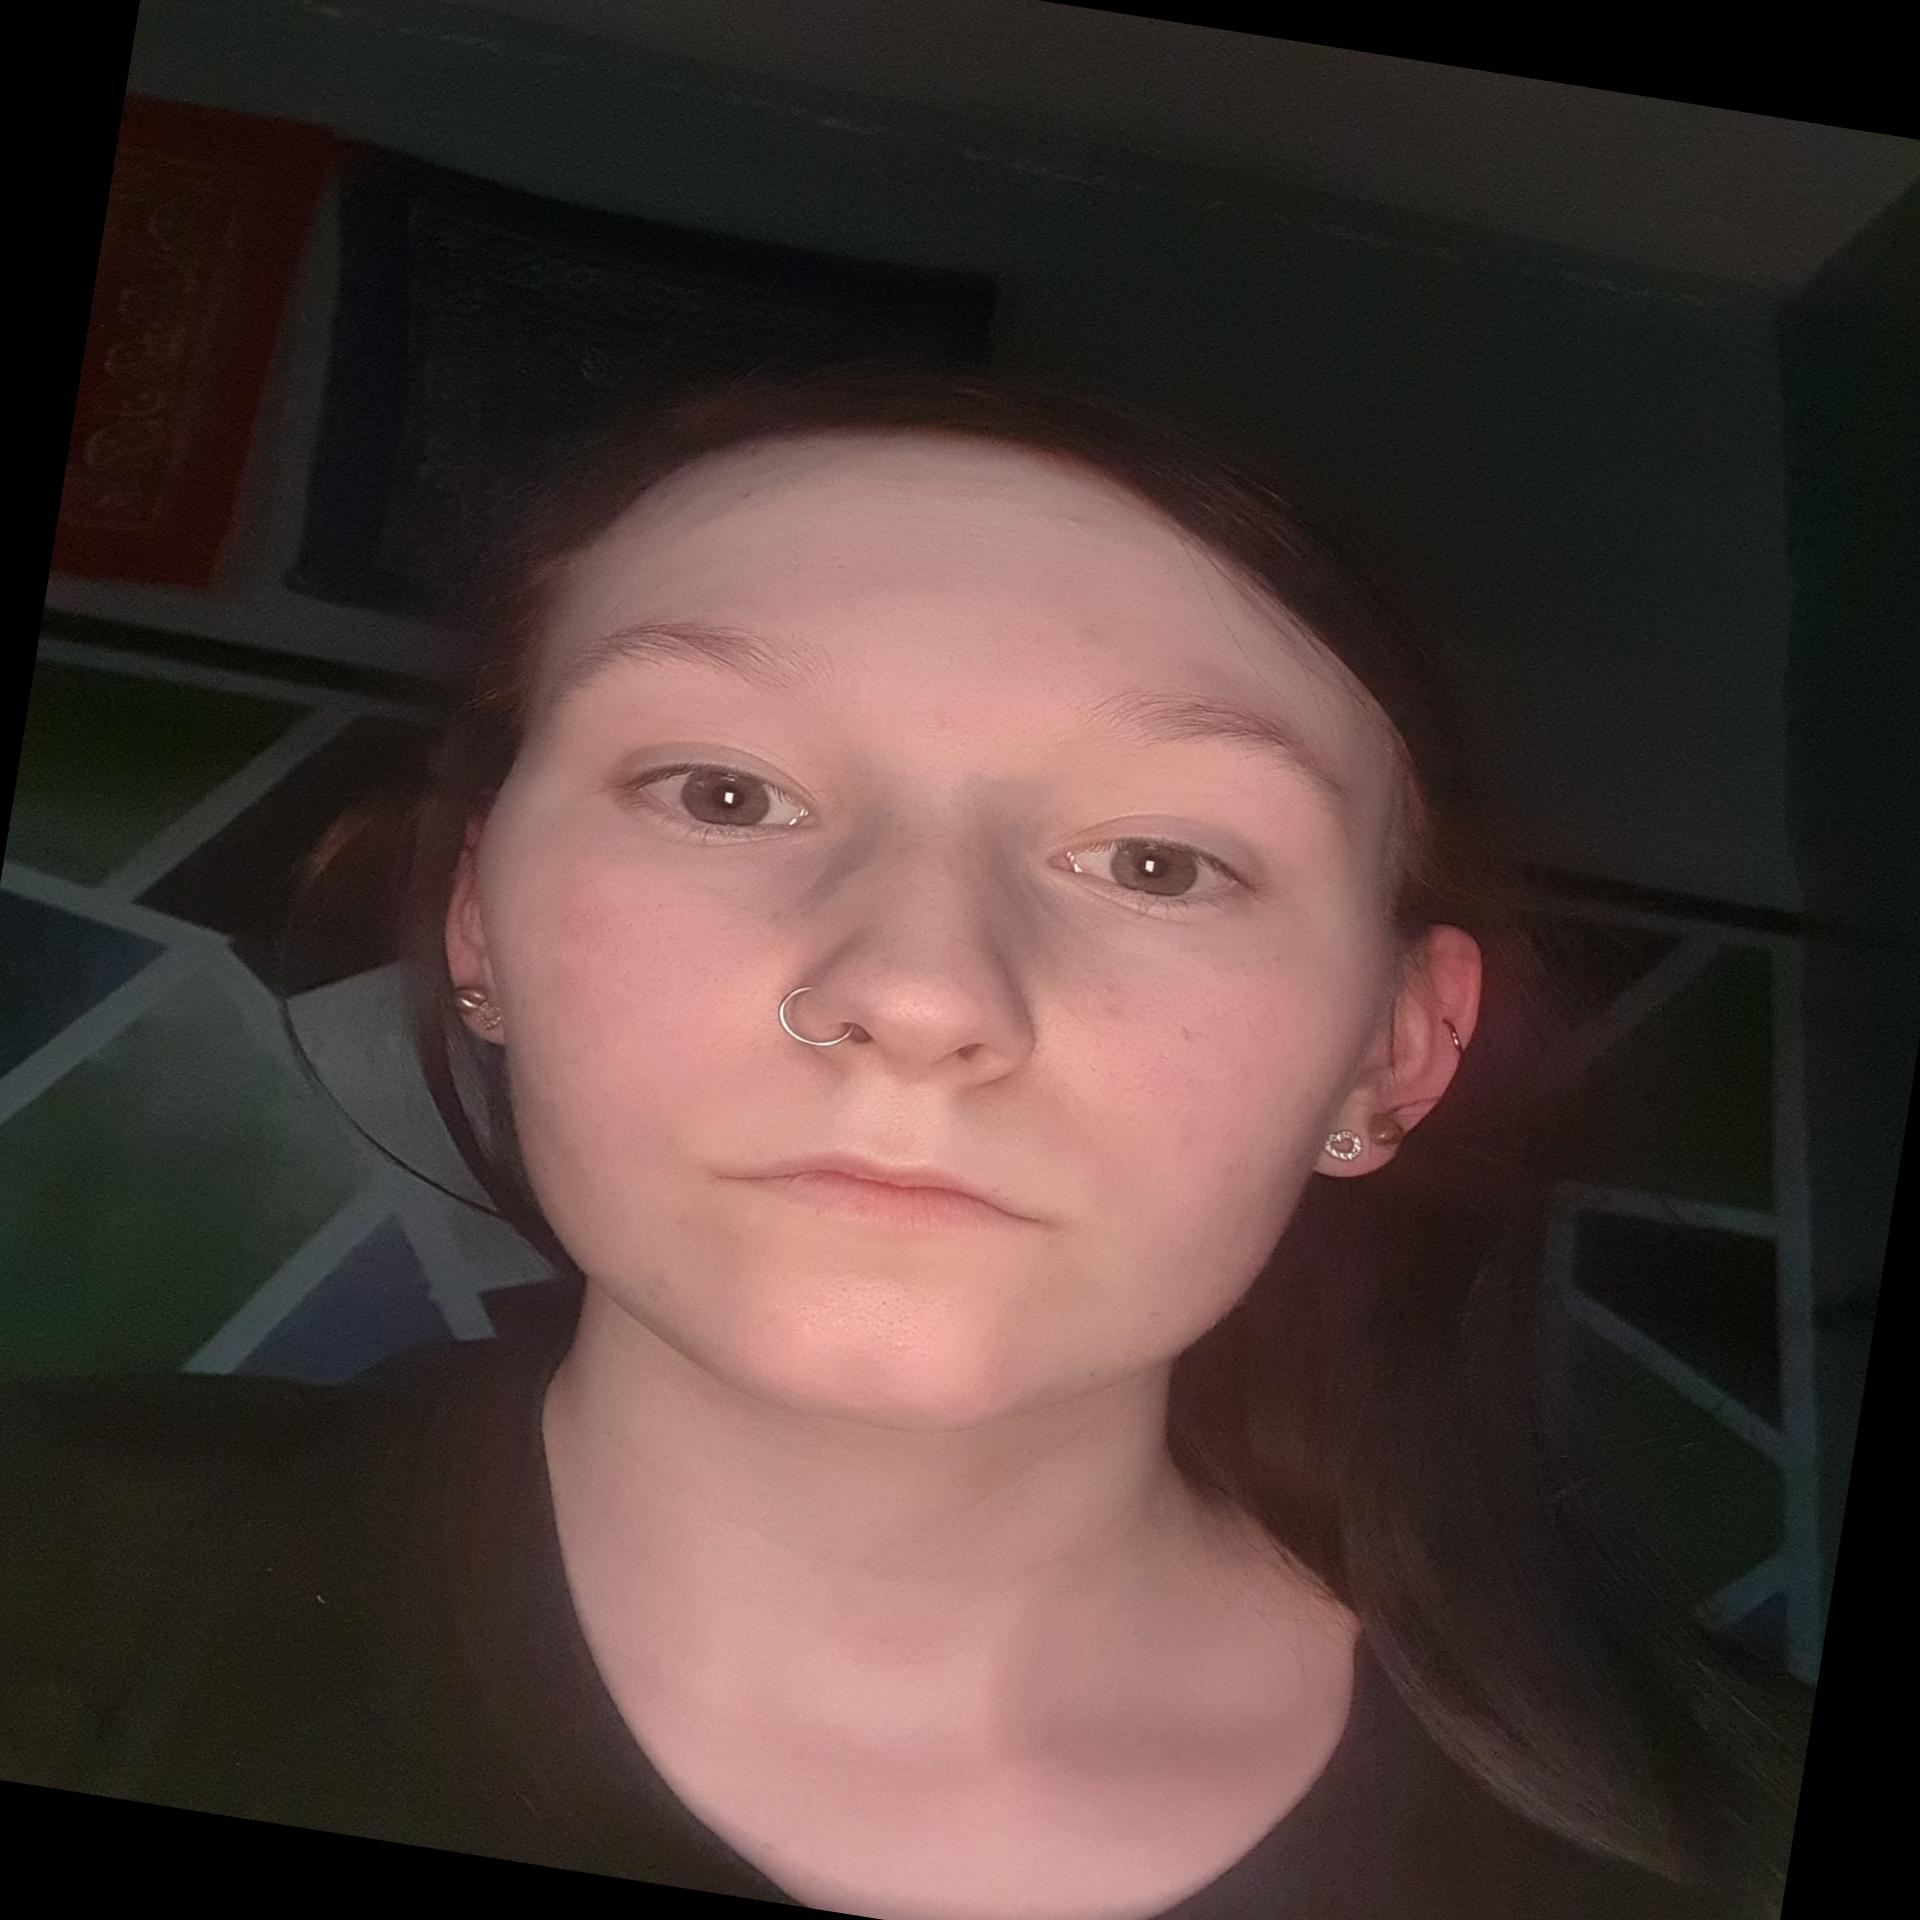Acne: (622, 1259, 682, 1312), (1201, 1146, 1252, 1182), (1067, 622, 1113, 658), (726, 478, 772, 512), (658, 1208, 702, 1241), (1124, 1299, 1167, 1333), (1048, 506, 1092, 529)
Blackhead: (774, 1254, 956, 1377), (869, 932, 979, 1039)
Englarged Pores: (591, 897, 786, 1046), (1078, 979, 1247, 1127)
